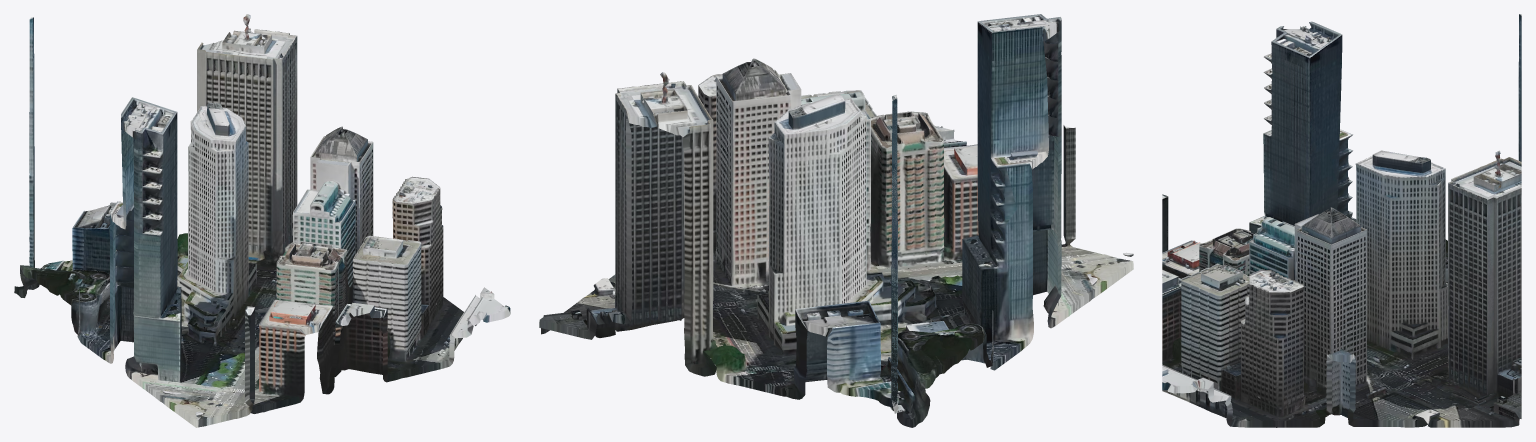
The model's file is z17-20973-50654-h0-yup-uvflip-v3-world.glb.
3 renders of one model, left to right at view 1: azimuth 30°, elevation 25°; view 2: azimuth 150°, elevation 25°; view 3: azimuth 270°, elevation 25°, orthographic. The views are drawn at different scales.
Size of the model in its own units: 242 by 202 by 243.
1 material, 1 textured.
